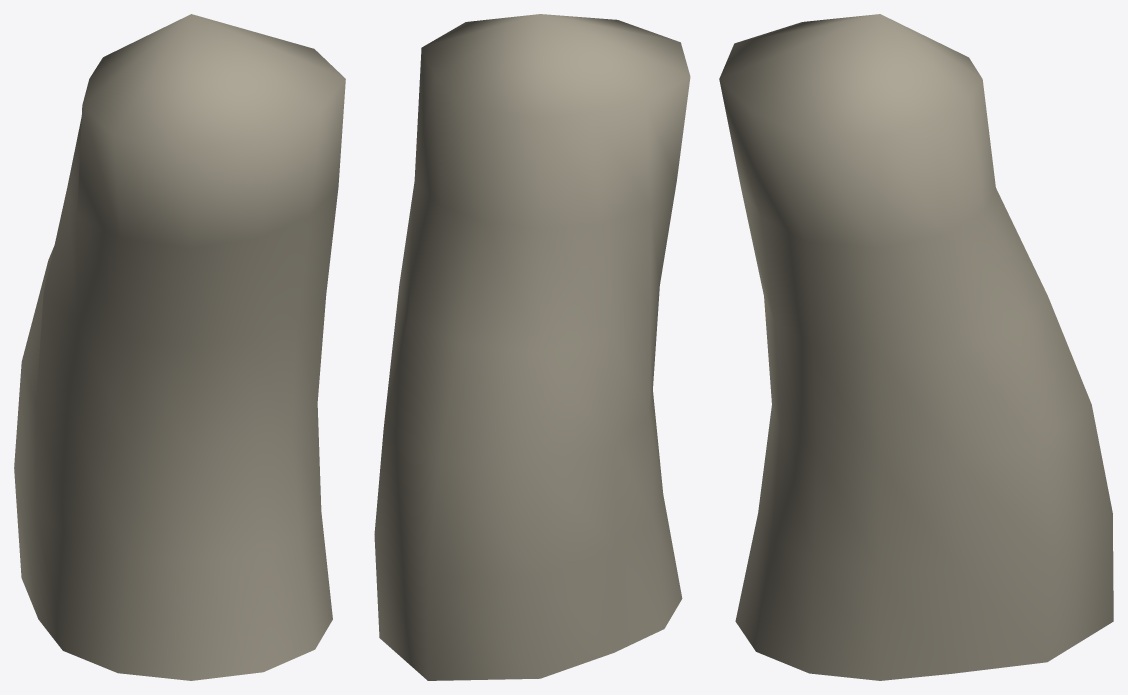
File: necro_armor_boot.R.glb
3 renders of one model, left to right at view 1: azimuth 30°, elevation 25°; view 2: azimuth 150°, elevation 25°; view 3: azimuth 270°, elevation 25°, orthographic. The views are drawn at different scales.
Visible parts, largest first — view 1: necro_armor_boot.R; view 2: necro_armor_boot.R; view 3: necro_armor_boot.R.
Boxes of the visible parts, x1,y1,x2,y2 form: necro_armor_boot.R: [14, 14, 345, 680]; necro_armor_boot.R: [374, 14, 690, 680]; necro_armor_boot.R: [719, 14, 1113, 680].
Bounding box in the file's own units: 0.1257 × 0.288 × 0.1695.
